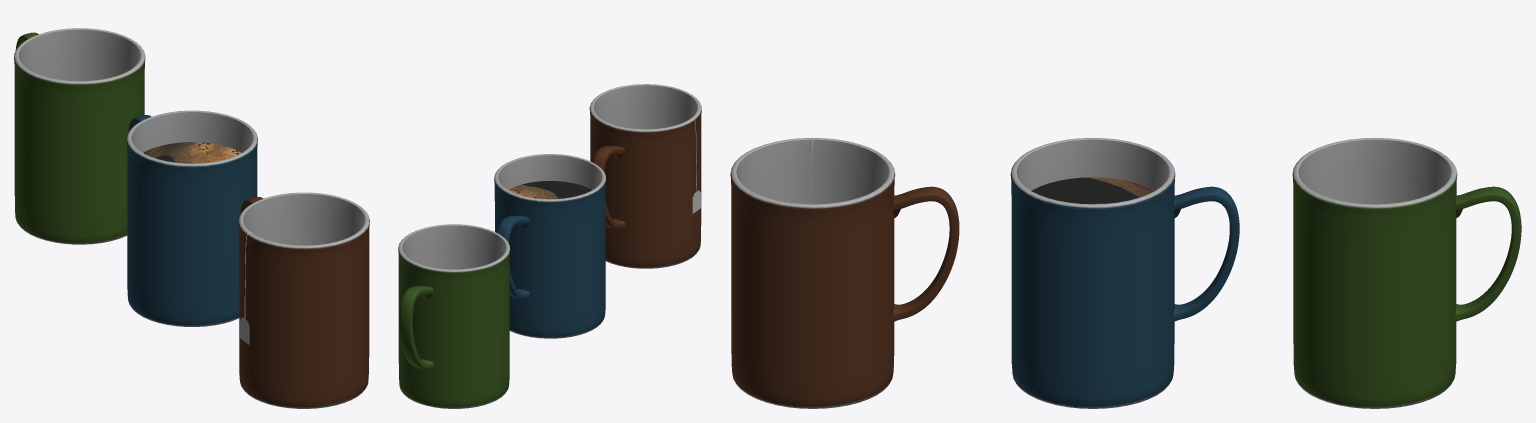
The model's file is mug-set.glb.
3 views of the same model, side by side, from view 1: azimuth 30°, elevation 25°; view 2: azimuth 150°, elevation 25°; view 3: azimuth 270°, elevation 25° (orthographic). The views are drawn at different scales.
Parts seen in each view (by area): view 1: Cups_Cup3_0, Cups_Cup2_0, Cups_Cup1_0, Cups_Coffee_0, Cups_Tea_Bag_0; view 2: Cups_Cup2_0, Cups_Cup3_0, Cups_Cup1_0, Cups_Coffee_0; view 3: Cups_Cup2_0, Cups_Cup3_0, Cups_Cup1_0, Cups_Coffee_0.
Part boxes in pixels (<box>): Cups_Cup3_0: <box>238,192,369,408</box>; Cups_Cup2_0: <box>14,28,145,244</box>; Cups_Cup1_0: <box>126,110,257,326</box>; Cups_Coffee_0: <box>143,142,240,163</box>; Cups_Tea_Bag_0: <box>240,232,252,344</box>; Cups_Cup2_0: <box>398,224,510,408</box>; Cups_Cup3_0: <box>589,84,701,268</box>; Cups_Cup1_0: <box>494,154,606,338</box>; Cups_Coffee_0: <box>508,181,591,199</box>; Cups_Cup2_0: <box>1292,138,1521,408</box>; Cups_Cup3_0: <box>730,138,959,408</box>; Cups_Cup1_0: <box>1010,138,1239,408</box>; Cups_Coffee_0: <box>1031,177,1154,204</box>.
Bounding box in the file's own units: 0.0534 × 0.1186 × 0.25.
Materials: 7 (7 with a texture image).
